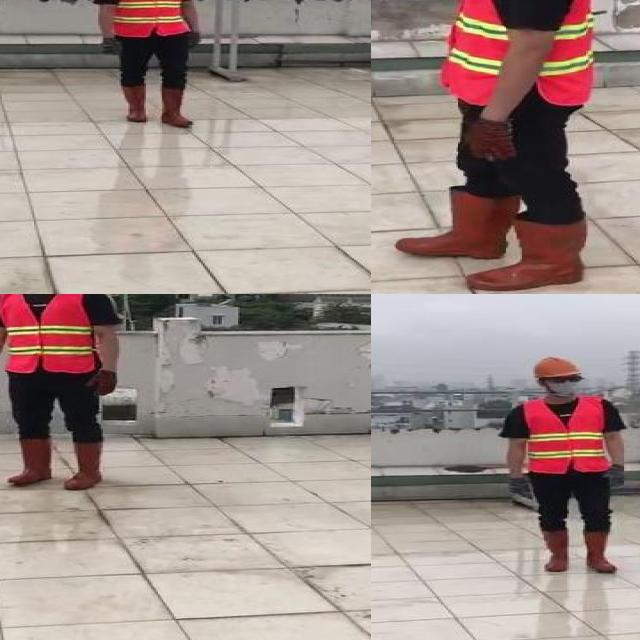boots: (463, 221, 588, 293), (396, 193, 520, 258), (9, 440, 55, 487), (62, 441, 105, 490), (583, 530, 622, 572), (157, 86, 194, 127), (118, 84, 148, 123), (542, 530, 569, 573)
face_mask: (548, 374, 586, 396)
glasses: (547, 372, 585, 384)
hand_glove: (464, 117, 518, 162), (83, 371, 117, 396), (602, 462, 628, 490), (508, 475, 534, 496), (185, 30, 205, 51), (102, 37, 121, 57)
head_helmet: (531, 354, 584, 378)
person: (385, 0, 600, 294), (498, 353, 634, 584), (0, 294, 127, 493), (92, 0, 218, 128)
vest: (442, 0, 596, 106), (0, 294, 101, 374), (522, 397, 610, 473), (113, 0, 190, 38)
